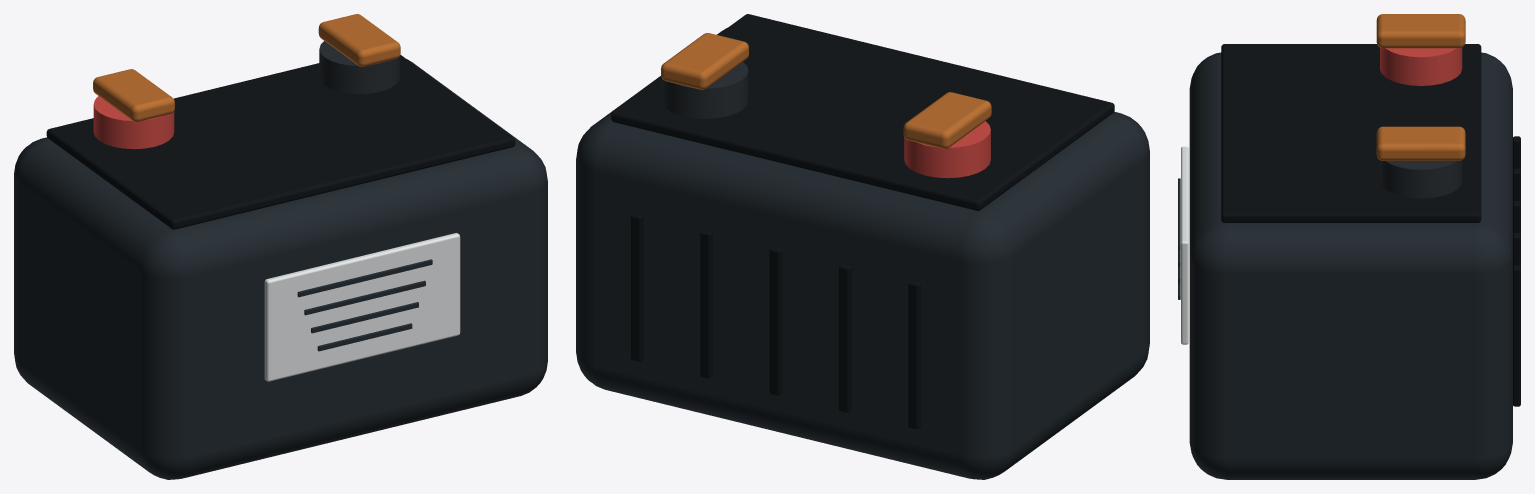
Rendered from ups-replacement-battery.glb.
The picture shows the model from 3 angles, left to right: view 1: azimuth 30°, elevation 25°; view 2: azimuth 150°, elevation 25°; view 3: azimuth 270°, elevation 25°; orthographic projection. The views are drawn at different scales.
Visible parts, largest first — view 1: Sealed lead-acid battery, Battery top, Battery specification label, Terminal blade (×2), Battery terminal (×2), Premium sealed UPS replacement battery; view 2: Sealed lead-acid battery, Battery top, Case reinforcement rib (×5), Terminal blade (×2), Battery terminal (×2); view 3: Sealed lead-acid battery, Battery top, Terminal blade (×2), Battery terminal (×2), Battery specification label, Case reinforcement rib.
Part boxes in pixels (bbox=[...]): Sealed lead-acid battery: bbox=[14, 59, 547, 479]; Battery top: bbox=[46, 55, 515, 229]; Battery specification label: bbox=[264, 233, 460, 381]; Terminal blade (×2): bbox=[93, 14, 400, 121]; Battery terminal (×2): bbox=[93, 41, 399, 149]; Premium sealed UPS replacement battery: bbox=[297, 259, 432, 351]; Sealed lead-acid battery: bbox=[576, 28, 1149, 479]; Battery top: bbox=[611, 14, 1114, 210]; Case reinforcement rib (×5): bbox=[631, 213, 920, 429]; Terminal blade (×2): bbox=[661, 33, 991, 148]; Battery terminal (×2): bbox=[661, 62, 990, 178]; Sealed lead-acid battery: bbox=[1189, 52, 1512, 479]; Battery top: bbox=[1221, 44, 1481, 222]; Terminal blade (×2): bbox=[1376, 14, 1465, 160]; Battery terminal (×2): bbox=[1380, 48, 1462, 198]; Battery specification label: bbox=[1181, 146, 1188, 344]; Case reinforcement rib: bbox=[1513, 265, 1520, 406].
Bounding box in the file's own units: 1.5 × 1.09 × 1.08.
